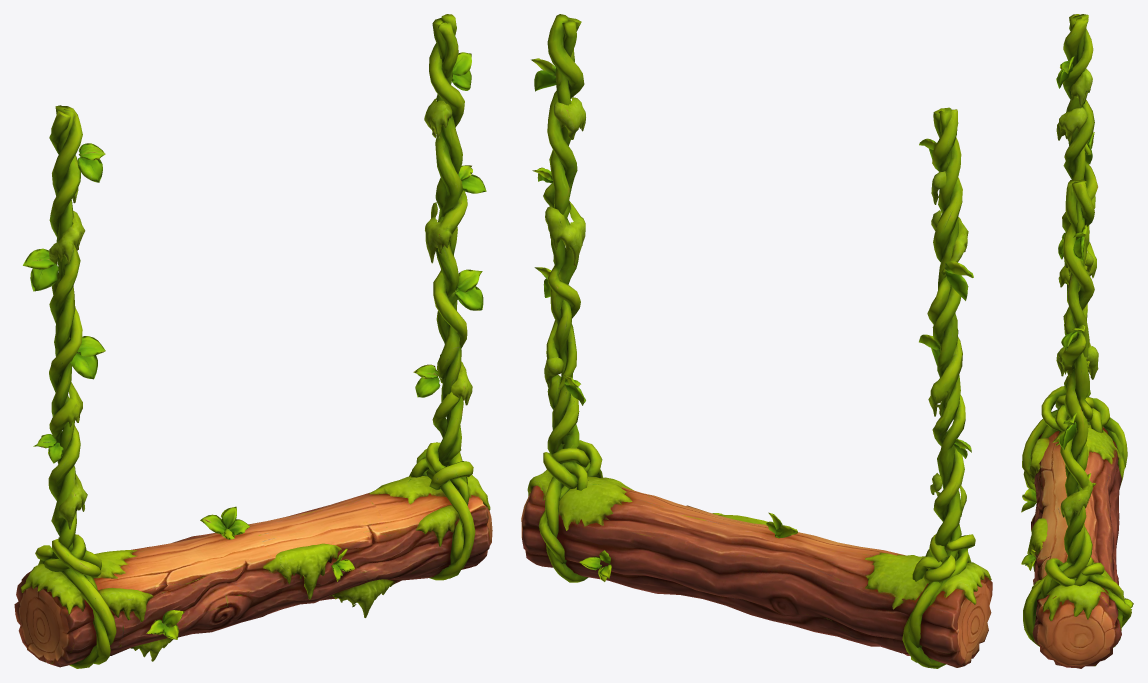
The model's file is hanging_log.glb.
3 renders of one model, left to right at view 1: azimuth 30°, elevation 25°; view 2: azimuth 150°, elevation 25°; view 3: azimuth 270°, elevation 25°, orthographic. The views are drawn at different scales.
Size of what is drawn, in the model's own units: 0.8353 by 1 by 0.2062.
Materials: 1 (1 with a texture image).
